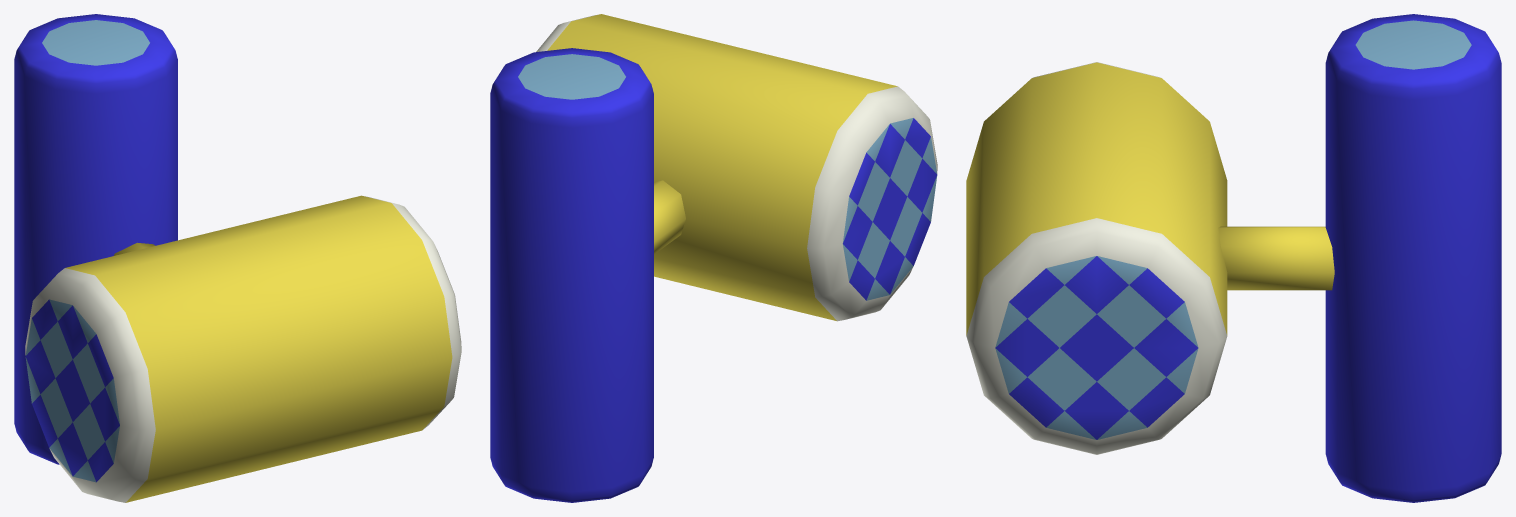
The model's file is hammer.glb.
3 renders of one model, left to right at view 1: azimuth 30°, elevation 25°; view 2: azimuth 150°, elevation 25°; view 3: azimuth 270°, elevation 25°, orthographic. The views are drawn at different scales.
Visible parts, largest first — view 1: Hammer; view 2: Hammer; view 3: Hammer.
Boxes of the visible parts, x1,y1,x2,y2 form: Hammer: (14,14,461,502); Hammer: (490,14,937,502); Hammer: (966,14,1501,502).
Size of the model in its own units: 1.89 by 2.1 by 2.39.
1 material, 1 textured.
